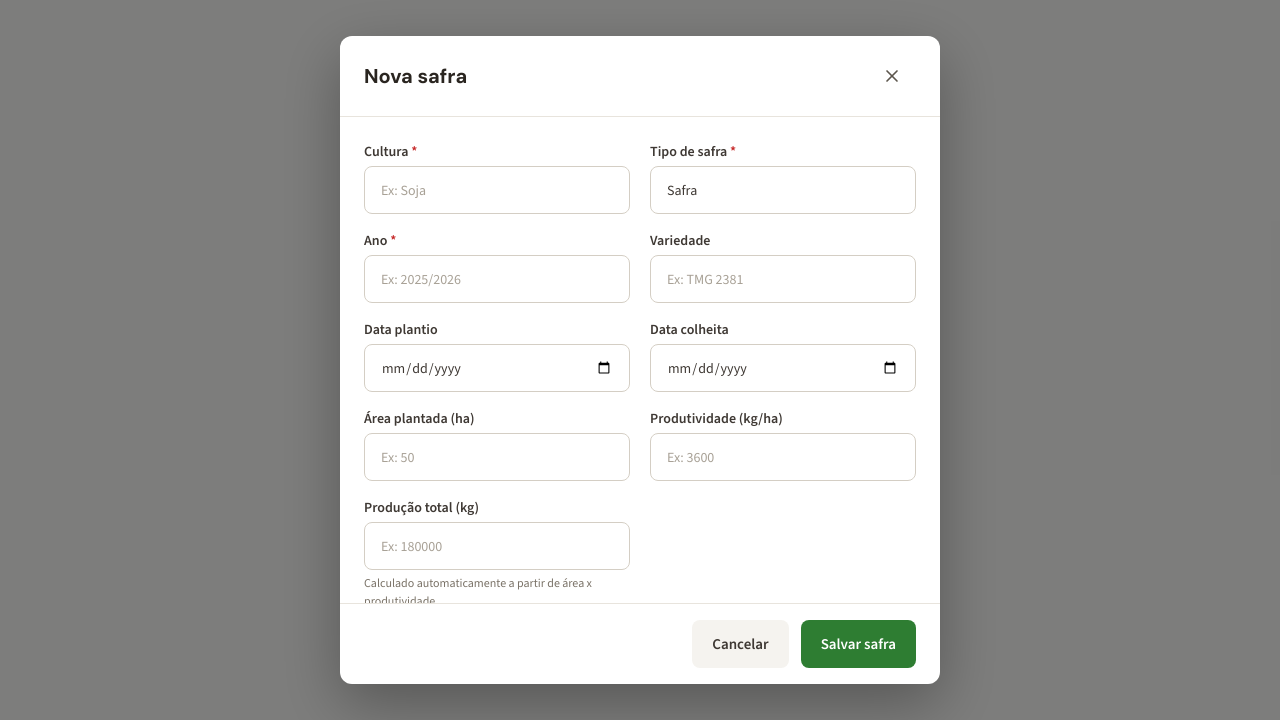
it: AddCropSeasonModal › shows submit error on API failure
Type "Soja" into the field labelled "Cultura *" at (497, 190), box [364,166,630,214]
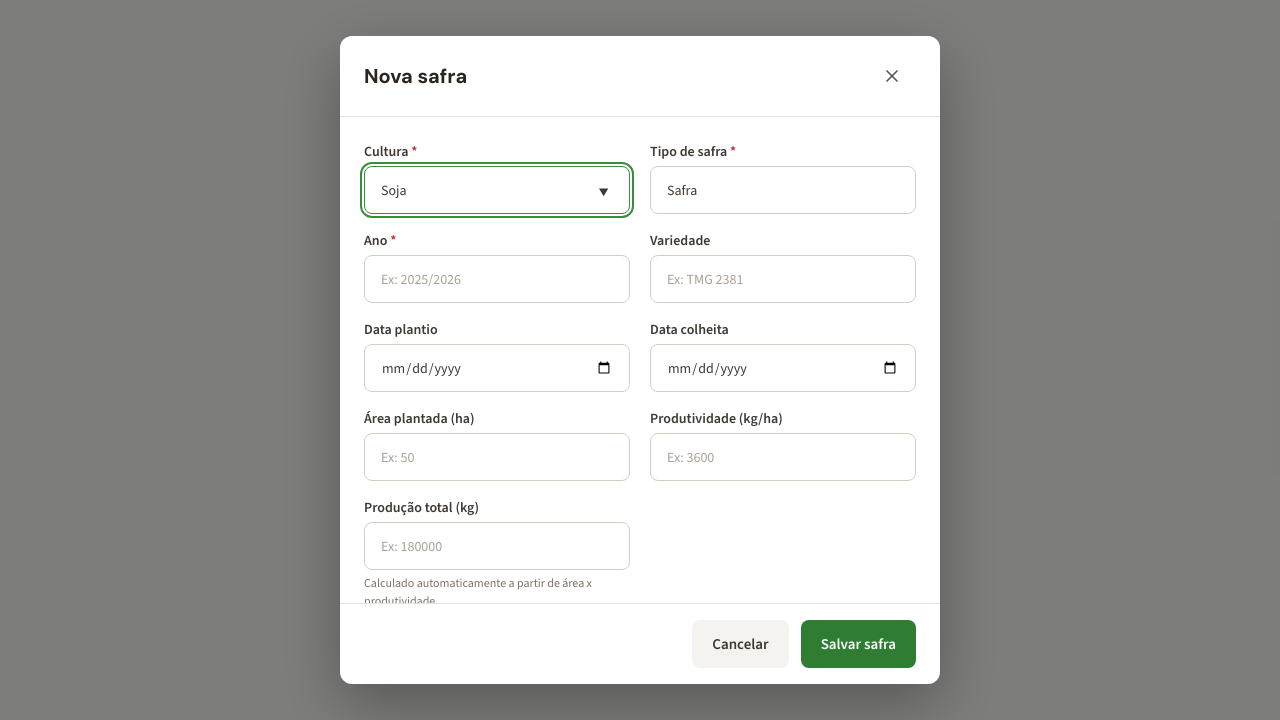
Type "2025/2026" into the field labelled "Ano *" at (497, 279), box [364,255,630,303]
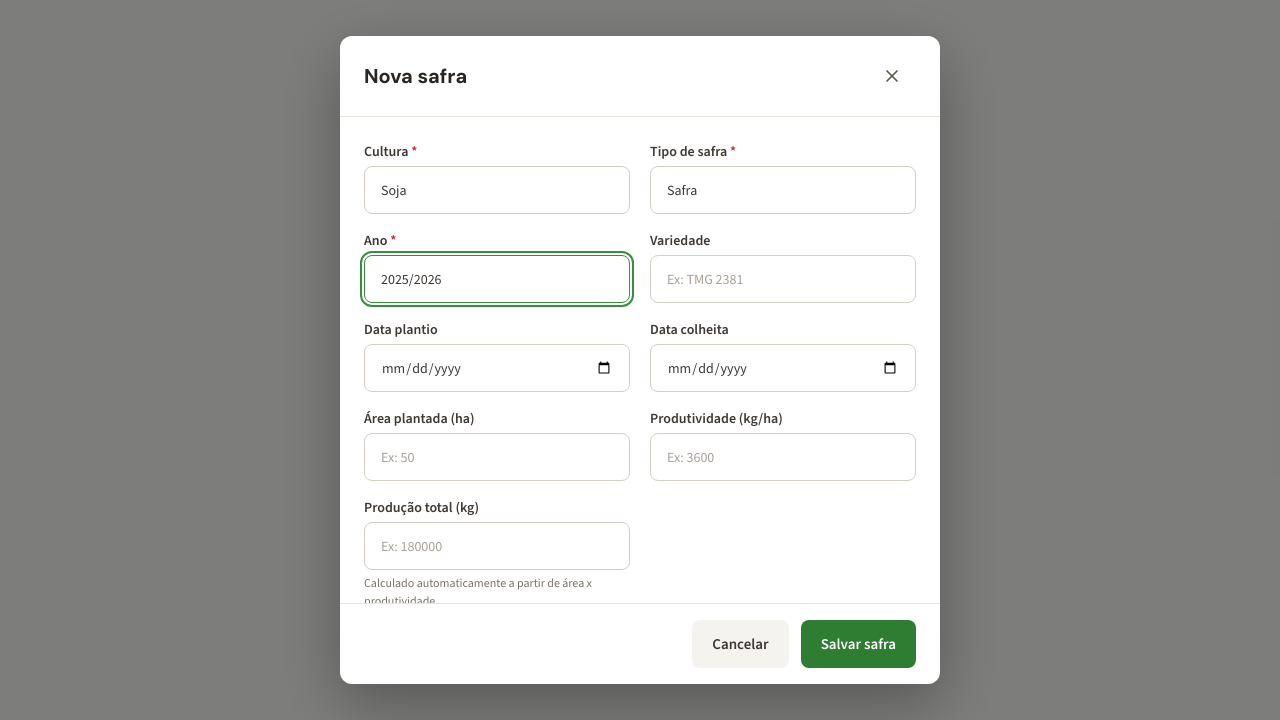
Click the button "Salvar safra" at (858, 644), box [801,620,916,668]
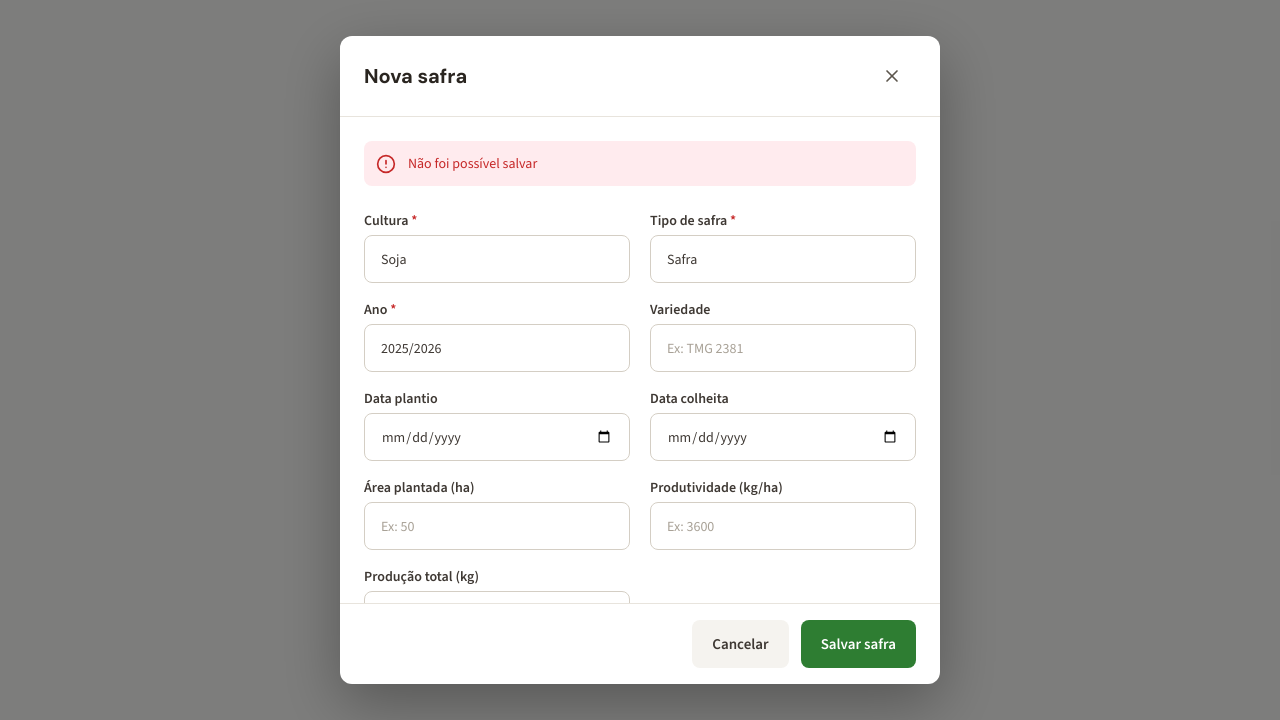
Result: the text "Não foi possível salvar" is shown at [364,141,916,186]
